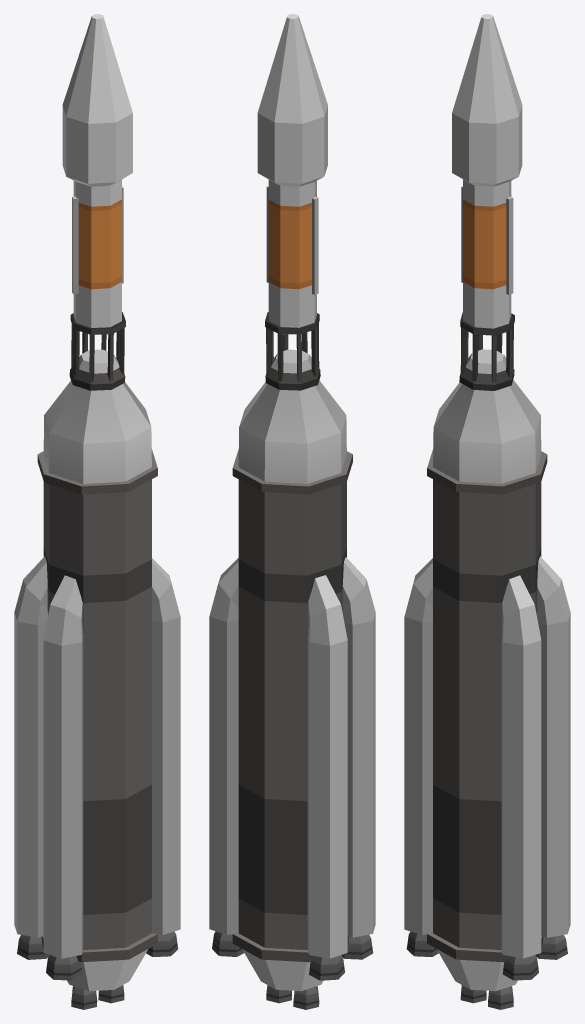
File: SM_Veh_Rocket_10.fbx
3 renders of one model, left to right at view 1: azimuth 30°, elevation 25°; view 2: azimuth 150°, elevation 25°; view 3: azimuth 330°, elevation 25°, orthographic.
Visible parts, largest first — view 1: SM_Veh_Rocket_10; view 2: SM_Veh_Rocket_10; view 3: SM_Veh_Rocket_10.
Boxes of the visible parts, x1=… form: SM_Veh_Rocket_10: x1=14, y1=14, x2=180, y2=1009; SM_Veh_Rocket_10: x1=209, y1=14, x2=375, y2=1009; SM_Veh_Rocket_10: x1=404, y1=14, x2=570, y2=1009.
Size of the model in its own units: 2.69 by 18.66 by 2.14.
